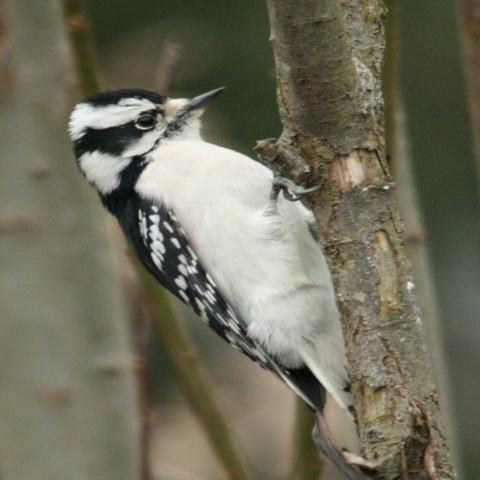bird: (65, 84, 364, 432)
